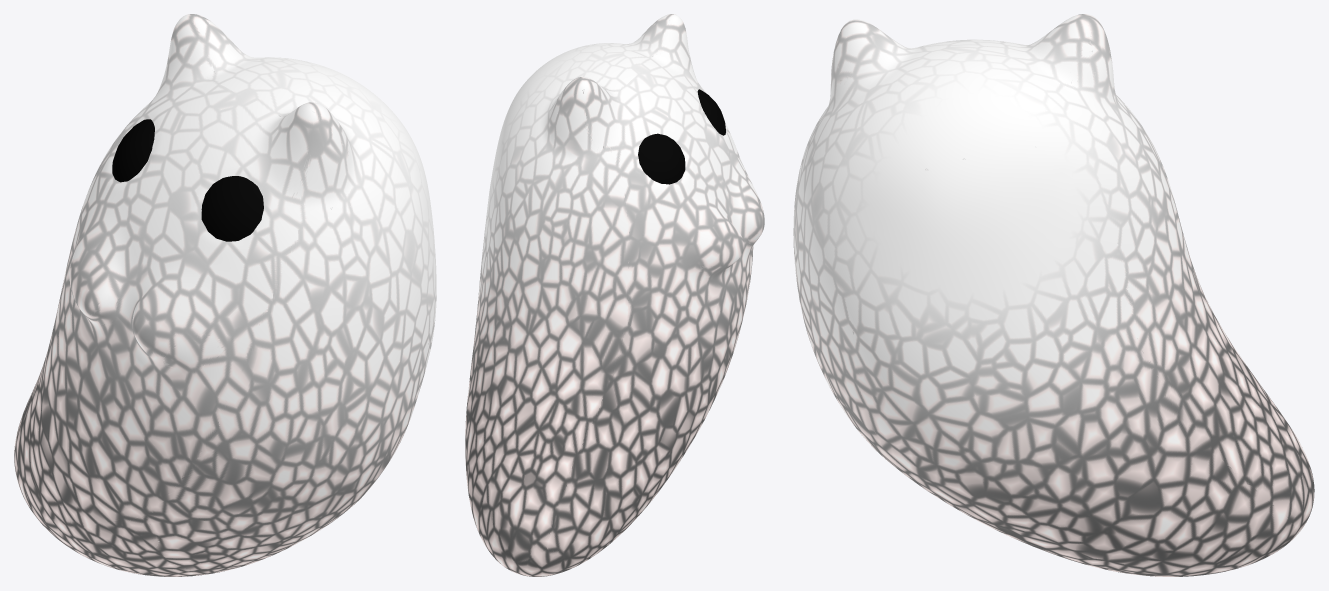
File: gost_White.glb
3 renders of one model, left to right at view 1: azimuth 30°, elevation 25°; view 2: azimuth 150°, elevation 25°; view 3: azimuth 270°, elevation 25°, orthographic. The views are drawn at different scales.
Parts seen in each view (by area): view 1: Quad Sphere, Sphère.001, Sphère; view 2: Quad Sphere, Sphère, Sphère.001; view 3: Quad Sphere.
Boxes of the visible parts, x1,y1,x2,y2 form: Quad Sphere: (14,14,436,576); Sphère.001: (201,176,263,241); Sphère: (112,119,154,182); Quad Sphere: (465,14,764,576); Sphère: (638,133,685,184); Sphère.001: (697,89,725,135); Quad Sphere: (793,14,1314,576).
Bounding box in the file's own units: 1.95 × 3.46 × 2.93.
2 materials, 1 textured.
